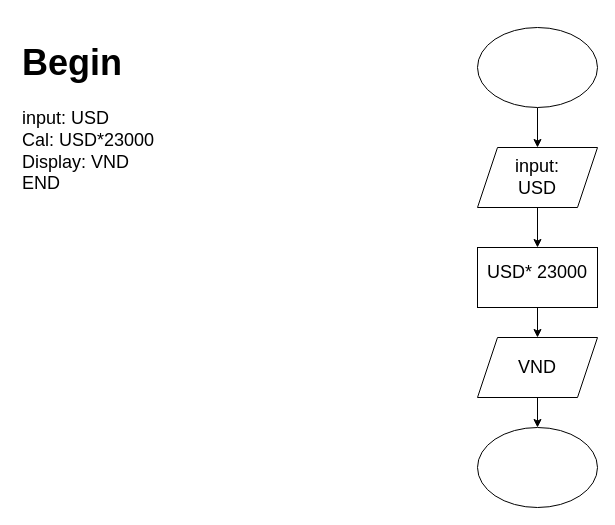
Image size: 615x525. Some labels were removed from this diagram. The shapes that lost their labels are listed below. From the top down, each one's centre as x and y in pixels, then its label:
At (x=537, y=67): "Begin".
At (x=537, y=467): "Text".
